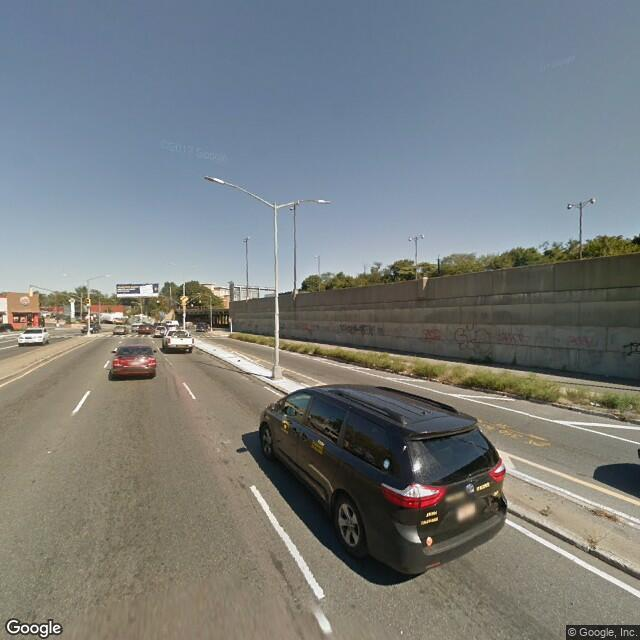litter: (586, 399, 600, 406), (44, 448, 53, 456), (397, 628, 407, 634)
